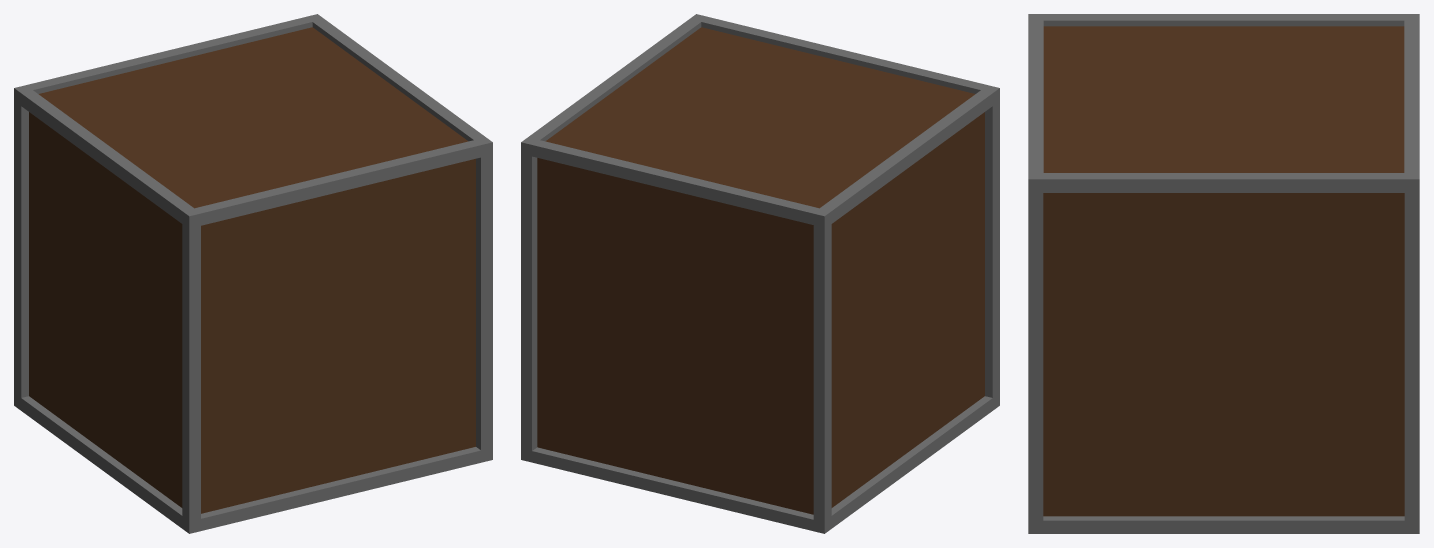
File: crate.fbx
3 renders of one model, left to right at view 1: azimuth 30°, elevation 25°; view 2: azimuth 150°, elevation 25°; view 3: azimuth 270°, elevation 25°, orthographic. The views are drawn at different scales.
Visible parts, largest first — view 1: Cube.001; view 2: Cube.001; view 3: Cube.001.
Part boxes in pixels (box(x1,y1,x2,y2)): Cube.001: box(14, 14, 492, 533); Cube.001: box(521, 14, 999, 533); Cube.001: box(1028, 14, 1419, 533).
Bounding box in the file's own units: 32.4 × 32.4 × 32.4.
